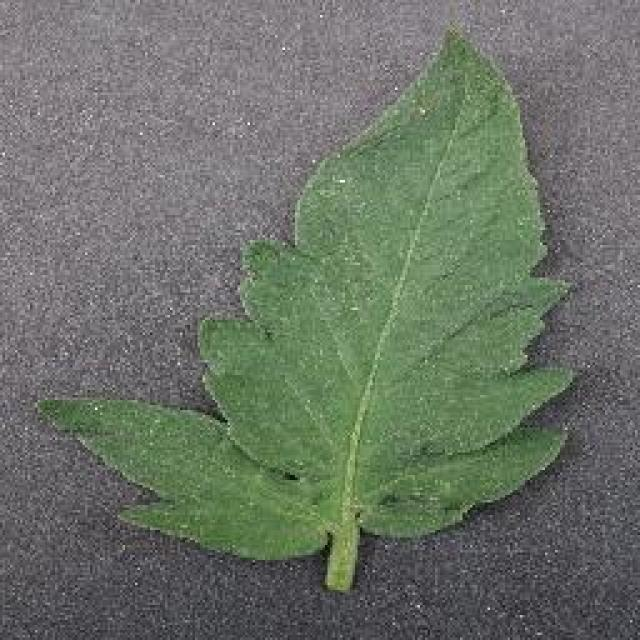Tomato_Healthy: (45, 27, 585, 576)
